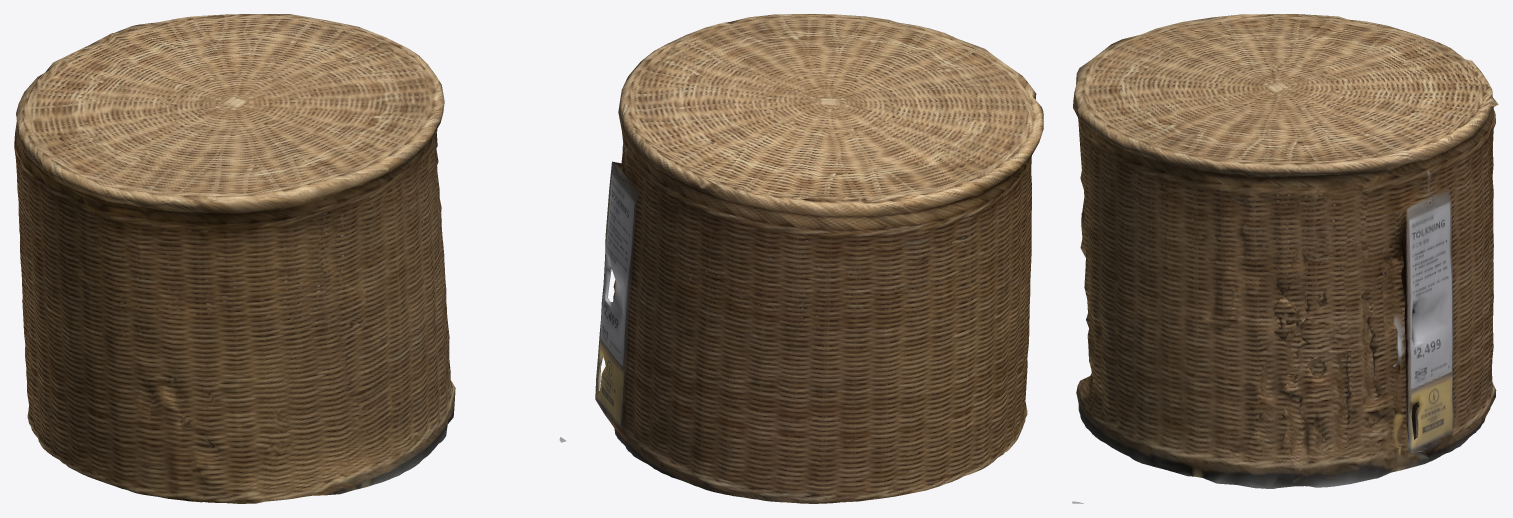
Rendered from 3DModel_LowPoly.obj.
3 renders of one model, left to right at view 1: azimuth 30°, elevation 25°; view 2: azimuth 150°, elevation 25°; view 3: azimuth 270°, elevation 25°, orthographic. The views are drawn at different scales.
Parts seen in each view (by area): view 1: grp1; view 2: grp1; view 3: grp1.
Boxes of the visible parts, <box> form: grp1: <box>14,14,566,503</box>; grp1: <box>595,14,1043,503</box>; grp1: <box>1072,14,1498,503</box>.
Bounding box in the file's own units: 3.24 × 2.4 × 2.94.
1 material, 1 textured.
